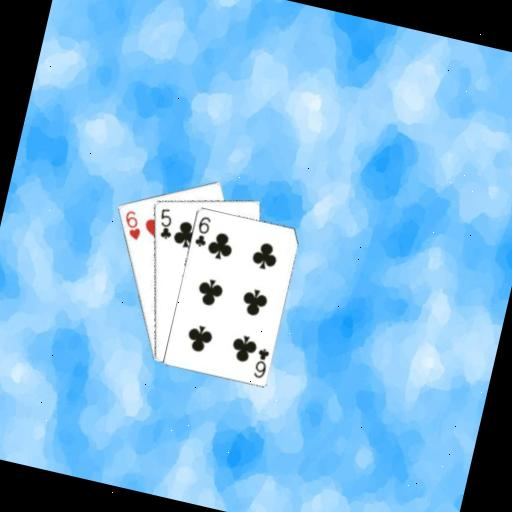5C: (152, 204, 179, 242)
6C: (250, 343, 273, 381), (191, 212, 213, 249)
6H: (117, 207, 147, 243)
